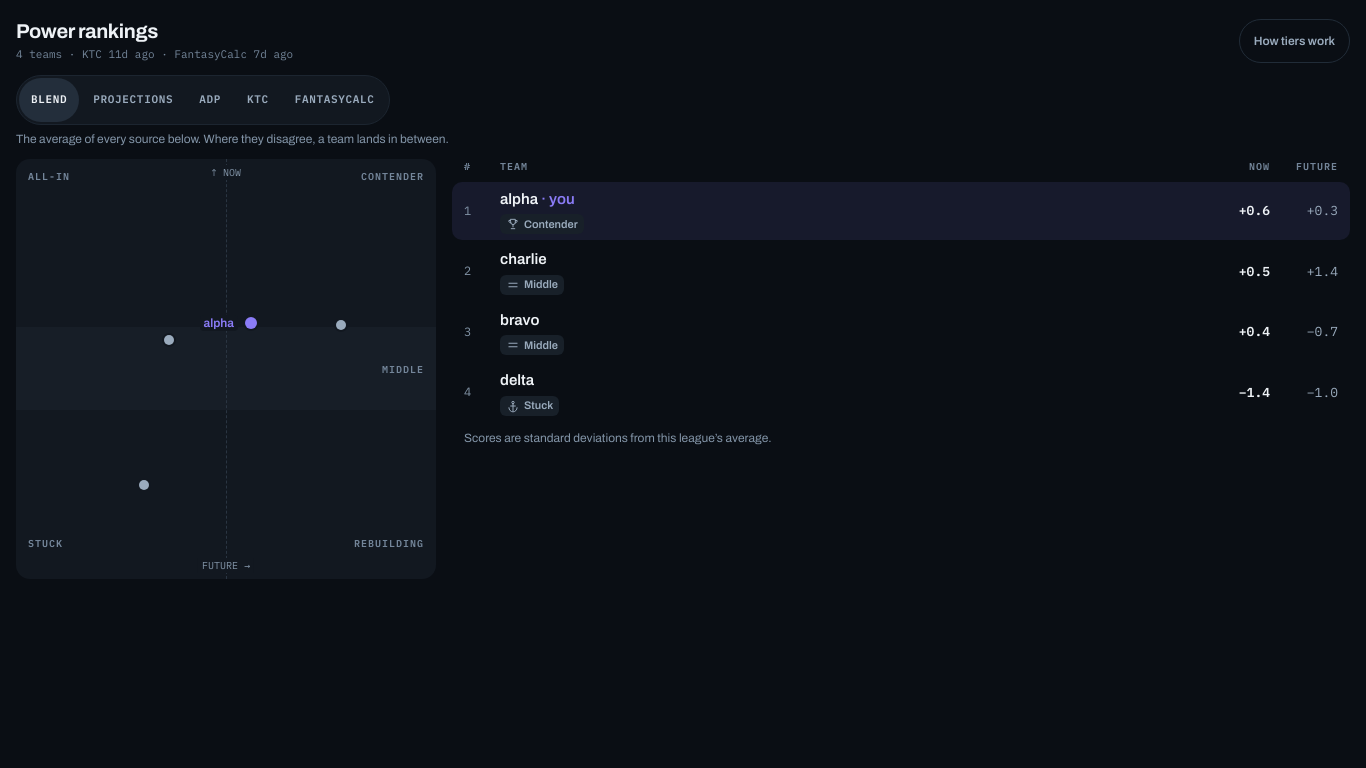
it: PowerRankingsPanel › a team, opened › shows your own team without comparing it to itself
Click the button "1 alpha · you Contender +0.6 +0.3" at (519,198), box [452,182,1350,240]
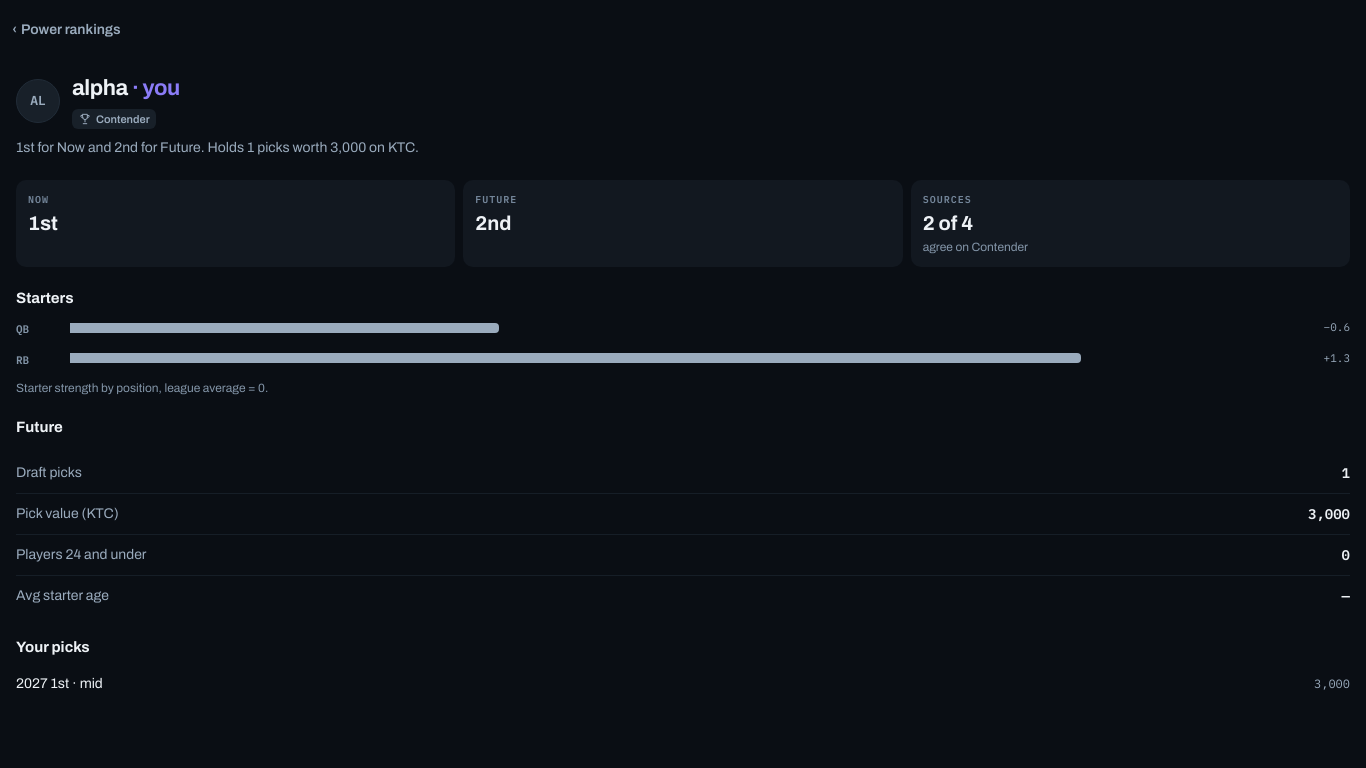
Result: the heading "alpha · you" is shown at [72,72,180,105]
Result: the heading "Starters" is shown at [16,290,74,306]
